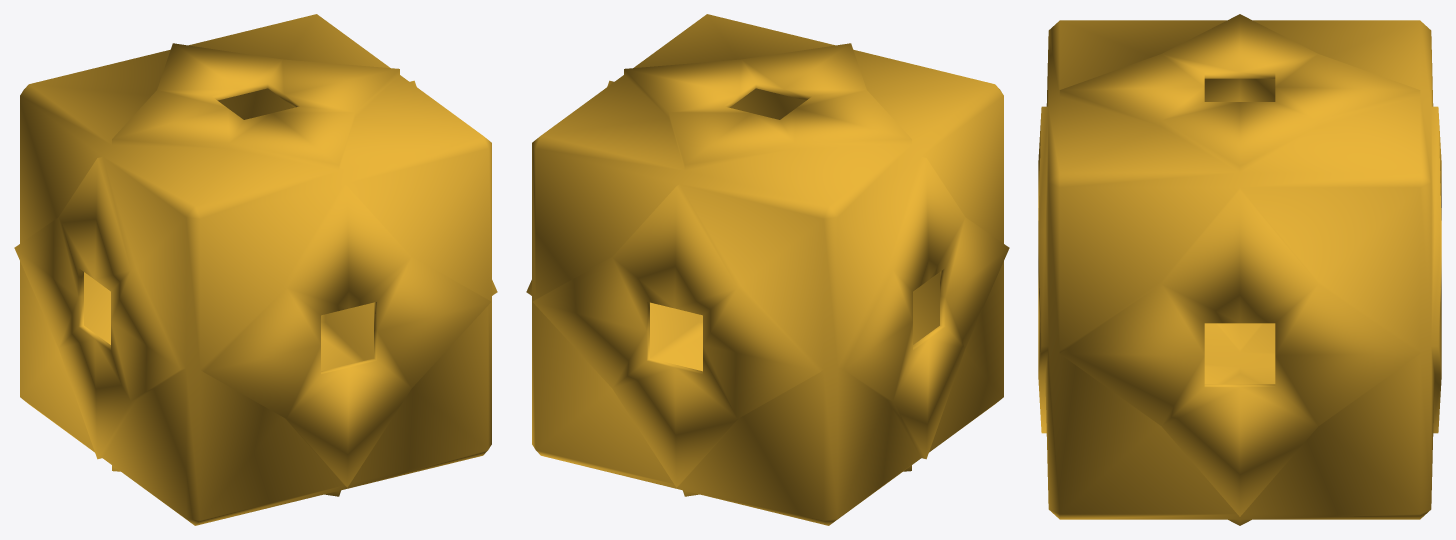
The model's file is SM_ENV_USER_ITEM_CUBE_01.FBX.
3 renders of one model, left to right at view 1: azimuth 30°, elevation 25°; view 2: azimuth 150°, elevation 25°; view 3: azimuth 270°, elevation 25°, orthographic. The views are drawn at different scales.
Visible parts, largest first — view 1: LP_user_item_cube_002; view 2: LP_user_item_cube_002; view 3: LP_user_item_cube_002.
Boxes of the visible parts, x1,y1,x2,y2 form: LP_user_item_cube_002: [14, 14, 497, 525]; LP_user_item_cube_002: [526, 14, 1009, 525]; LP_user_item_cube_002: [1038, 14, 1441, 525].
Size of the model in its own units: 30.48 by 30.48 by 30.48.
